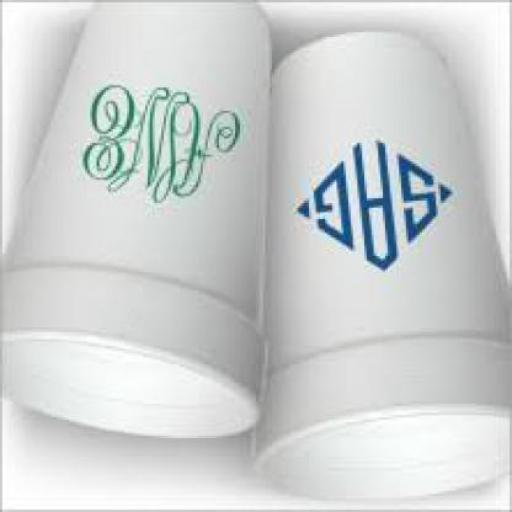paper: (254, 32, 510, 506), (2, 3, 274, 443)
